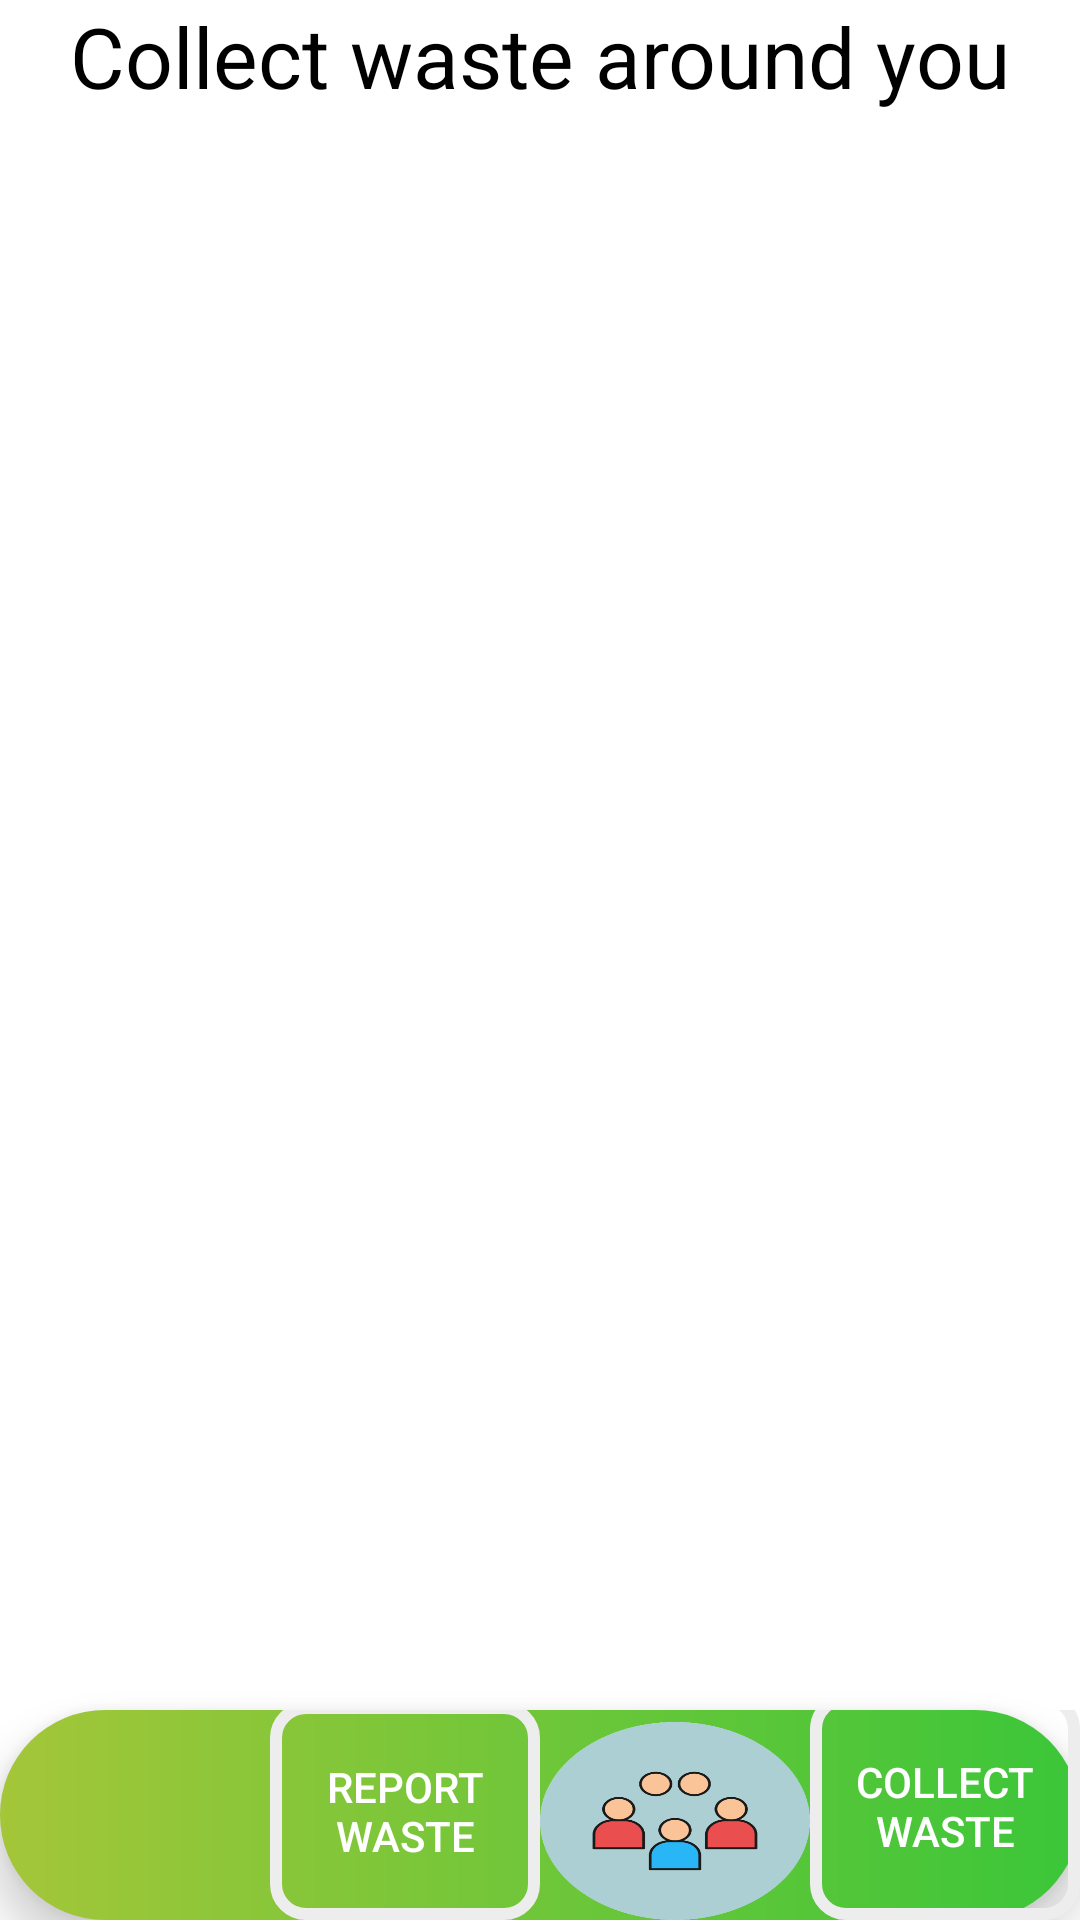

Named icons in this screenshot (1080px x 1920px) and their centers, [x,y]:
fam: [675,1821]
